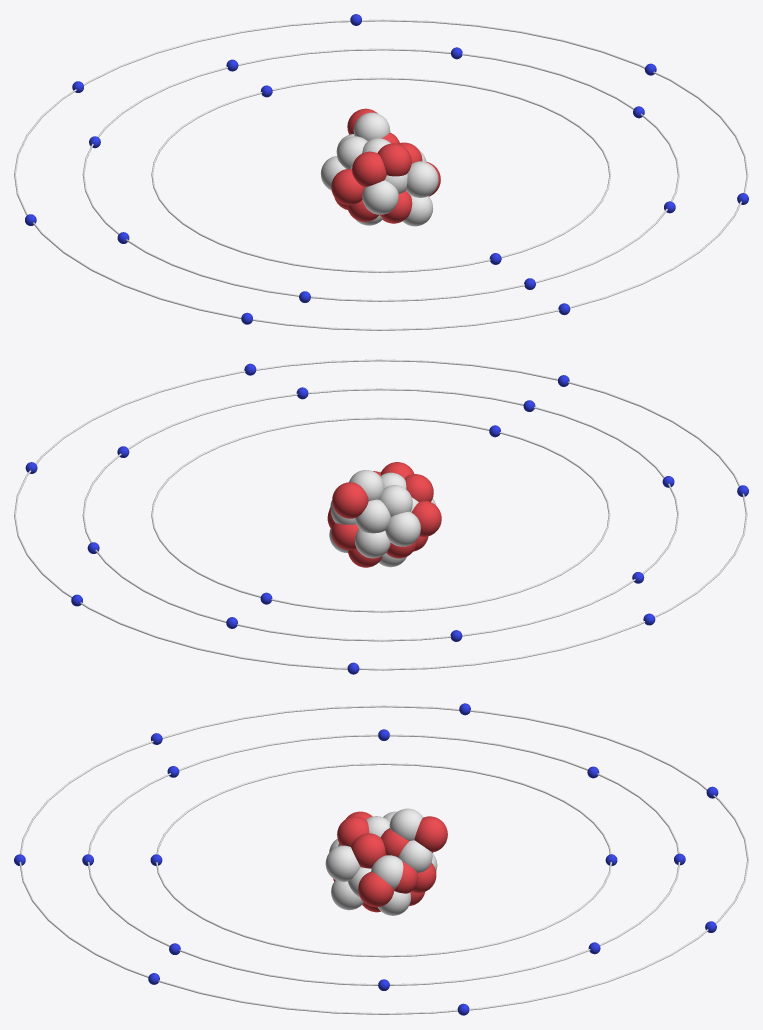
The model's file is Chlor.glb.
The picture shows the model from 3 angles, top to bottom: view 1: azimuth 30°, elevation 25°; view 2: azimuth 150°, elevation 25°; view 3: azimuth 270°, elevation 25°; orthographic projection.
Visible parts, largest first — view 1: M-Schale, L-Schale, K-Schale, Neutron 15, Neutron 13, Proton 14, Proton 16, Proton 15, Neutron 17, Neutron 18, Neutron 14, Proton 10; view 2: M-Schale, L-Schale, K-Schale, Proton 17, Neutron 16, Neutron 9, Neutron 8, Neutron 18, Proton 16, Neutron 17, Proton 14, Proton 12; view 3: M-Schale, L-Schale, K-Schale, Neutron 13, Proton 11, Proton 13, Proton 17, Neutron 17, Neutron 12, Neutron 6, Proton 15, Neutron 14.
Part boxes in pixels (bbox=[...]): M-Schale: bbox=[14, 19, 748, 330]; L-Schale: bbox=[82, 48, 679, 301]; K-Schale: bbox=[151, 77, 610, 272]; Neutron 15: bbox=[362, 180, 398, 214]; Neutron 13: bbox=[406, 161, 438, 197]; Proton 14: bbox=[352, 151, 386, 187]; Proton 16: bbox=[331, 169, 364, 205]; Proton 15: bbox=[378, 143, 411, 176]; Neutron 17: bbox=[353, 112, 390, 141]; Neutron 18: bbox=[337, 136, 367, 168]; Neutron 14: bbox=[402, 195, 433, 226]; Proton 10: bbox=[380, 190, 412, 222]; M-Schale: bbox=[14, 359, 747, 670]; L-Schale: bbox=[82, 388, 678, 641]; K-Schale: bbox=[151, 417, 610, 612]; Proton 17: bbox=[332, 482, 368, 518]; Neutron 16: bbox=[385, 511, 420, 546]; Neutron 9: bbox=[355, 499, 390, 533]; Neutron 8: bbox=[355, 529, 390, 558]; Neutron 18: bbox=[379, 485, 412, 516]; Proton 16: bbox=[411, 501, 441, 536]; Neutron 17: bbox=[349, 470, 384, 500]; Proton 14: bbox=[404, 474, 433, 501]; Proton 12: bbox=[331, 522, 358, 550]; M-Schale: bbox=[19, 705, 748, 1014]; L-Schale: bbox=[87, 734, 680, 985]; K-Schale: bbox=[156, 763, 611, 957]; Neutron 13: bbox=[325, 845, 360, 881]; Proton 11: bbox=[358, 871, 394, 907]; Proton 13: bbox=[351, 833, 385, 868]; Proton 17: bbox=[414, 816, 447, 852]; Neutron 17: bbox=[389, 808, 422, 840]; Neutron 12: bbox=[398, 840, 432, 872]; Neutron 6: bbox=[371, 855, 403, 889]; Proton 15: bbox=[337, 816, 369, 846]; Neutron 14: bbox=[331, 880, 363, 910].
Bounding box in the file's own units: 16.04 × 2.38 × 16.15.
